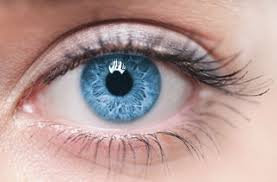pupil: (81, 55, 161, 122)
